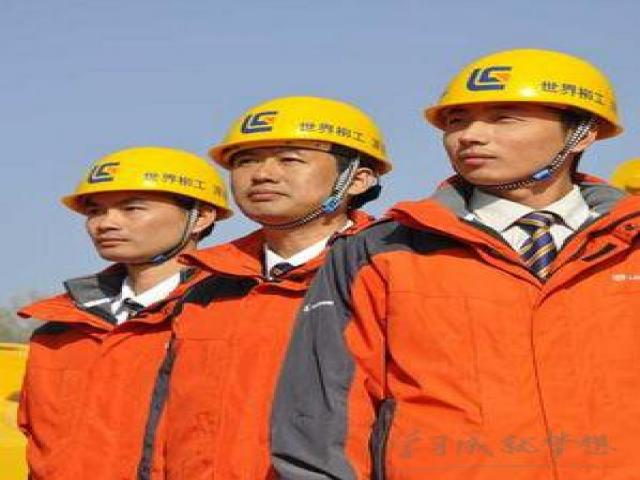Helmet: (412, 42, 634, 144), (202, 88, 397, 180), (54, 141, 233, 219)
